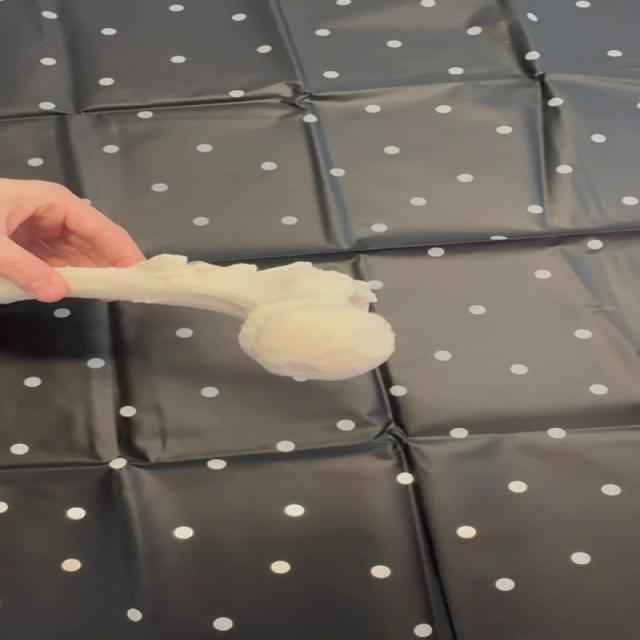bones: (58, 255, 394, 381)
